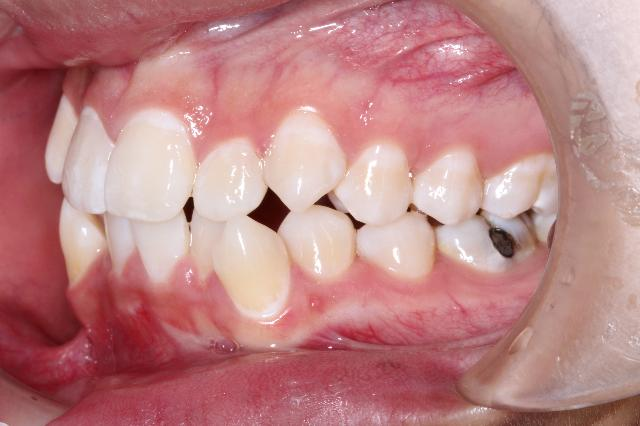canine class III 1/4: (213, 101, 357, 342)
molar class III 1/4: (436, 144, 570, 280)
